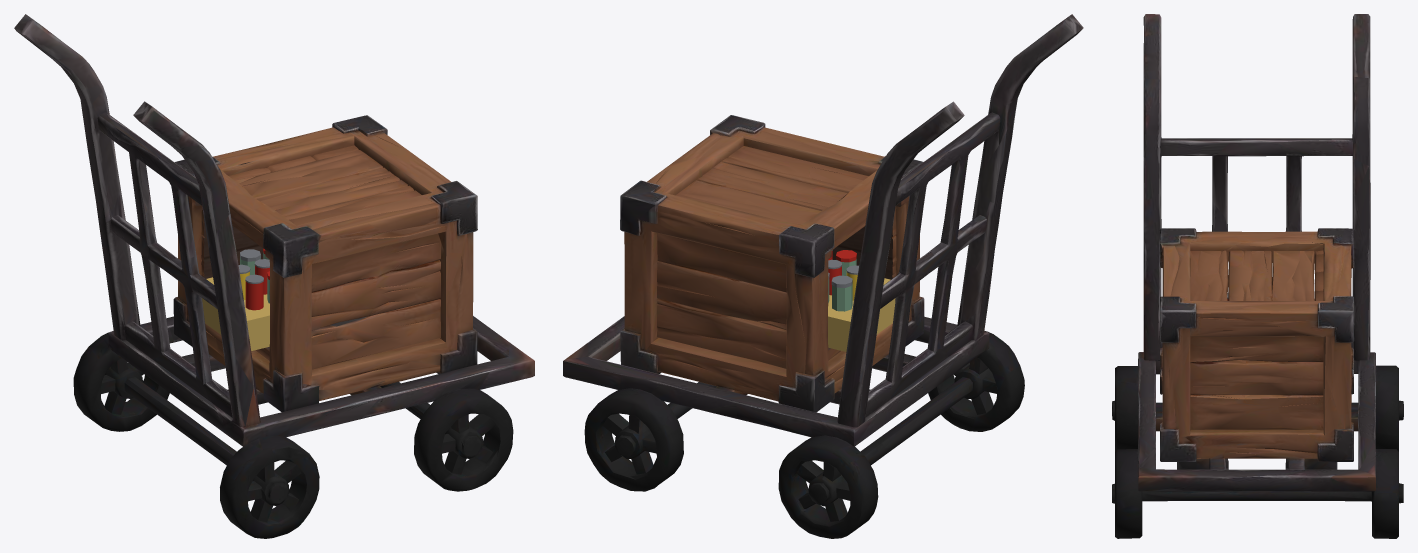
File: decor_cart_crate.glb
3 views of the same model, side by side, from view 1: azimuth 30°, elevation 25°; view 2: azimuth 150°, elevation 25°; view 3: azimuth 270°, elevation 25° (orthographic). The views are drawn at different scales.
Visible parts, largest first — view 1: body, lid, wheel_1, wheel_3, wheel_2; view 2: body, lid, wheel_2, wheel_4, wheel_1; view 3: body, lid, wheel_3, wheel_4, wheel_1, wheel_2.
Part boxes in pixels (bbox=[...]): body: bbox=[14, 14, 534, 465]; lid: bbox=[175, 128, 436, 265]; wheel_1: bbox=[220, 429, 319, 538]; wheel_3: bbox=[414, 383, 513, 491]; wheel_2: bbox=[73, 331, 169, 431]; body: bbox=[563, 14, 1083, 465]; lid: bbox=[661, 128, 923, 265]; wheel_2: bbox=[778, 429, 878, 538]; wheel_4: bbox=[584, 382, 683, 491]; wheel_1: bbox=[928, 330, 1024, 431]; body: bbox=[1138, 14, 1375, 501]; lid: bbox=[1159, 228, 1353, 300]; wheel_3: bbox=[1112, 449, 1147, 538]; wheel_4: bbox=[1366, 449, 1403, 538]; wheel_1: bbox=[1112, 363, 1138, 451]; wheel_2: bbox=[1376, 365, 1403, 451].
Size of the model in its own units: 1.1 by 1.2 by 0.8106.
Materials: 9 (4 with a texture image).
